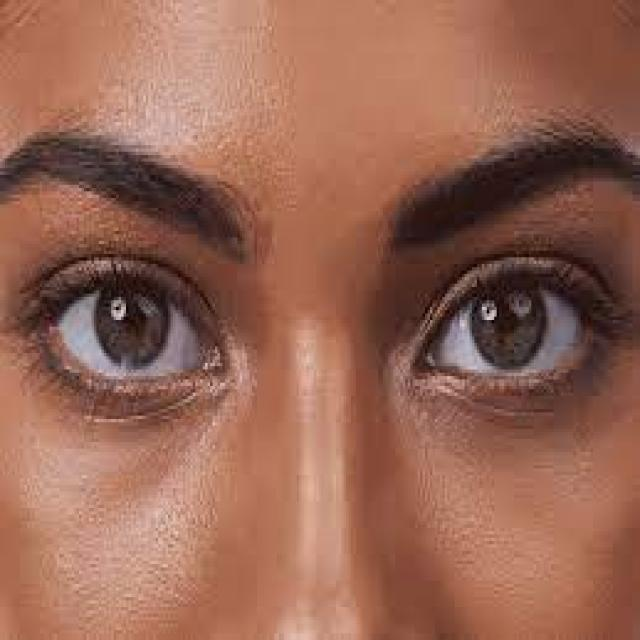Eyes-iris: (85, 275, 175, 374), (467, 284, 550, 372)
